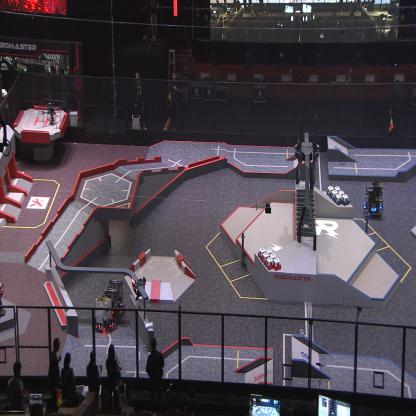car: (102, 278, 125, 327), (92, 294, 118, 334), (362, 180, 384, 218), (0, 271, 5, 299)
